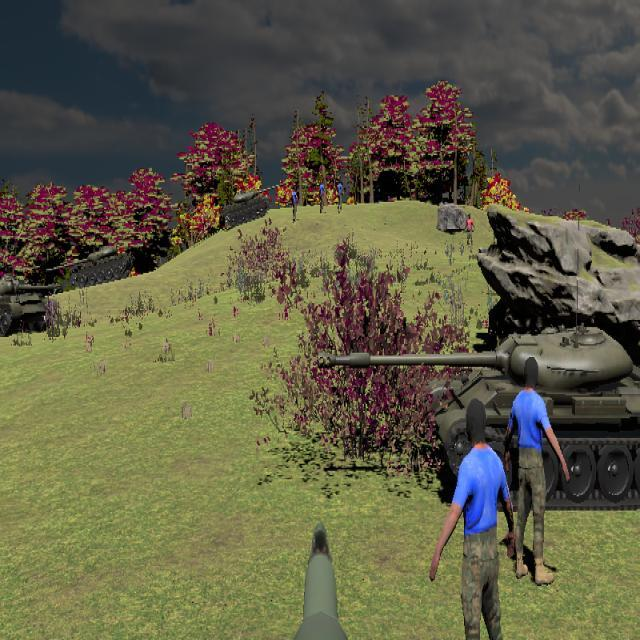Human: (429, 391, 515, 639), (429, 396, 514, 640), (504, 352, 570, 590)
Tank: (322, 321, 640, 509), (51, 244, 135, 288), (0, 276, 59, 336), (217, 186, 276, 228)
